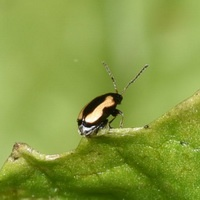insect: (77, 62, 148, 135)
